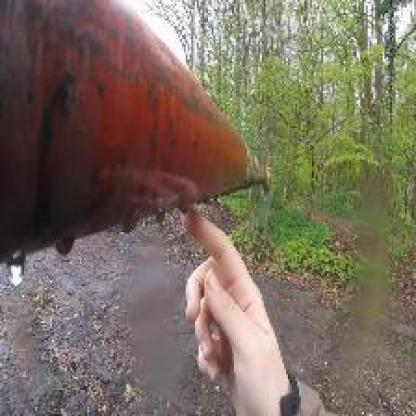other: (1, 14, 262, 220)
